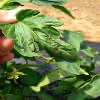Tomato leaf bacterial spot: (3, 8, 81, 76)
